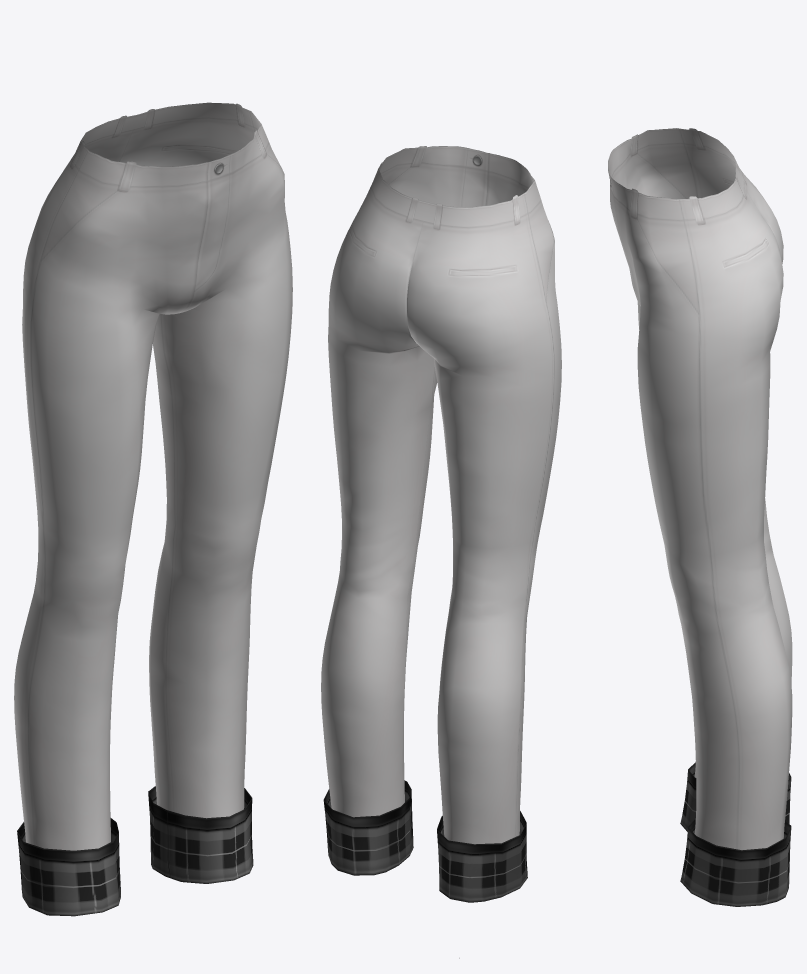
File: jeans.glb
The picture shows the model from 3 angles, left to right: view 1: azimuth 30°, elevation 25°; view 2: azimuth 150°, elevation 25°; view 3: azimuth 270°, elevation 25°; orthographic projection. The views are drawn at different scales.
Visible parts, largest first — view 1: pants.004; view 2: pants.004; view 3: pants.004.
Part boxes in pixels (left/top/right/bottom): pants.004: left=14, top=102, right=292, bottom=916; pants.004: left=321, top=146, right=561, bottom=958; pants.004: left=608, top=128, right=792, bottom=906.
Size of the model in its own units: 0.294 by 1.09 by 0.225.
Materials: 2 (2 with a texture image).
